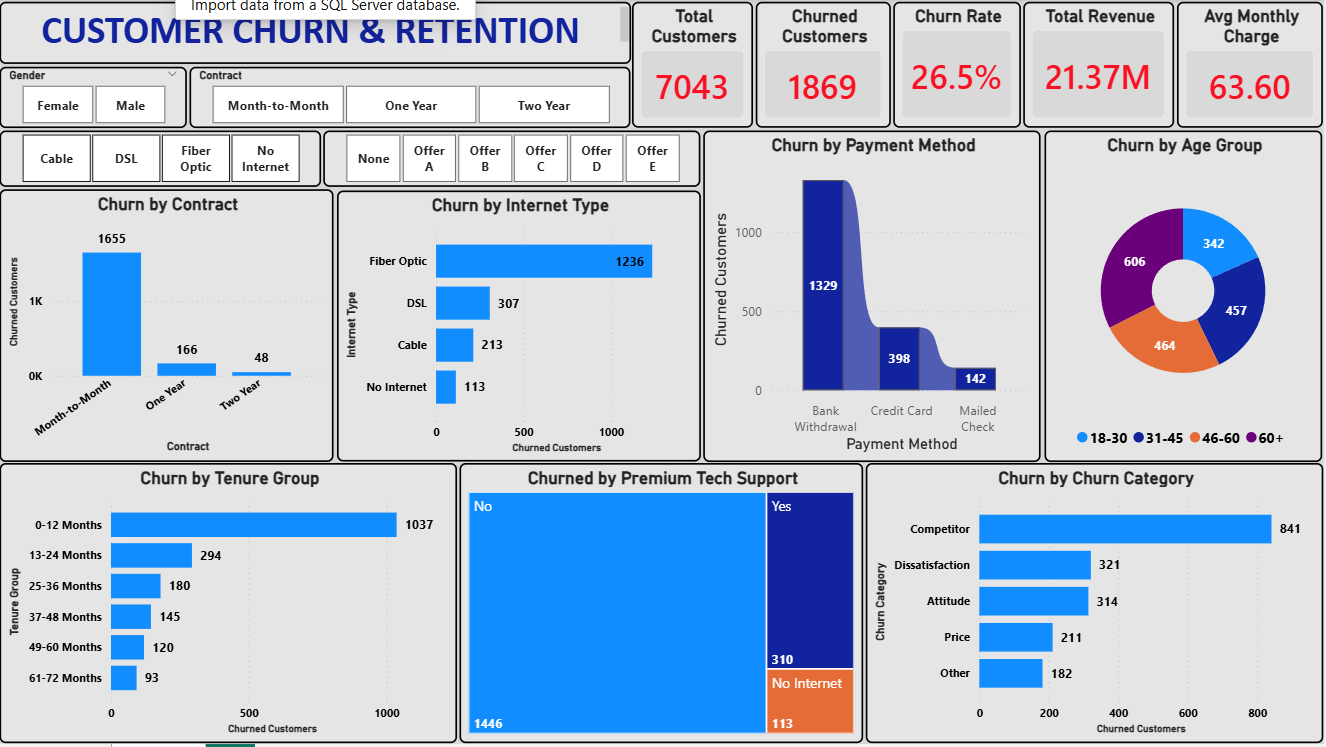

Layout of this report page (visuals, bound fields, positions):
{"tool":"powerbi","page":{"name":"Page 1","canvas":[1280,720],"ordinal":0},"visuals":[{"type":"textbox","box":[2.4,3.6,609.3,60.3],"z":0},{"type":"slicer","fields":{"Values":["telecom_customer_churn.Gender"]},"box":[2.4,66.4,181,59.1],"z":1000},{"type":"slicer","fields":{"Values":["telecom_customer_churn.Contract"]},"box":[185.8,66.4,425.9,59.1],"z":2000},{"type":"slicer","fields":{"Values":["telecom_customer_churn.Internet Type"]},"box":[2.4,127.9,310.1,54.3],"z":3000},{"type":"slicer","fields":{"Values":["telecom_customer_churn.Offer"]},"box":[314.9,127.9,364.3,54.3],"z":4000},{"type":"clusteredColumnChart","title":"Churn by Contract","fields":{"Category":["telecom_customer_churn.Contract"],"Y":["telecom_customer_churn.Churned Customers"]},"box":[2.4,184.6,322.1,263],"z":5000},{"type":"barChart","title":"Churn by Tenure Group","fields":{"Category":["telecom_customer_churn.Tenure Group"],"Y":["telecom_customer_churn.Churned Customers"]},"box":[2.7,448.7,441.9,270.3],"z":6000},{"type":"clusteredBarChart","title":"Churn by Internet Type","fields":{"Category":["telecom_customer_churn.Internet Type"],"Y":["telecom_customer_churn.Churned Customers"]},"box":[328.2,185.8,351.1,261.8],"z":7000},{"type":"ribbonChart","title":"Churn by Payment Method","fields":{"Category":["telecom_customer_churn.Payment Method"],"Y":["telecom_customer_churn.Churned Customers"]},"box":[681.6,127.9,325.7,319.7],"z":8000},{"type":"treemap","title":"Churned by Premium Tech Support","fields":{"Group":["telecom_customer_churn.Premium Tech Support"],"Values":["telecom_customer_churn.Churned Customers"]},"box":[446.4,448.8,389.7,270.2],"z":9000},{"type":"clusteredBarChart","title":"Churn by Churn Category","fields":{"Category":["telecom_customer_churn.Churn Category"],"Y":["telecom_customer_churn.Churned Customers"]},"box":[838.5,448.8,441.6,270.2],"z":10000},{"type":"donutChart","title":"Churn by Age Group","fields":{"Category":["telecom_customer_churn.Age Group"],"Y":["telecom_customer_churn.Churned Customers"]},"box":[1011,127.9,267.8,319.7],"z":11000},{"type":"cardVisual","title":"Total Customers","fields":{"Data":["telecom_customer_churn.Total Customers"]},"box":[612.9,3.6,117,121.9],"z":12000},{"type":"cardVisual","title":"Churned Customers","fields":{"Data":["telecom_customer_churn.Churned Customers"]},"box":[732.3,3.6,130.3,121.9],"z":13000},{"type":"cardVisual","title":"Churn Rate","fields":{"Data":["telecom_customer_churn.Churn Rate %"]},"box":[865,3.6,123.1,121.9],"z":14000},{"type":"cardVisual","title":"Total Revenue","fields":{"Data":["telecom_customer_churn.Total Revenue1"]},"box":[990.5,3.6,146,121.9],"z":15000},{"type":"cardVisual","title":"Avg Monthly Charge","fields":{"Data":["telecom_customer_churn.Avg Monthly Charge"]},"box":[1138.9,3.6,141.2,121.9],"z":16000}]}

Visuals, with their boxes in screenshot pixels (x1, y1, x2, y2), scaled from the page's 1280x720 canvas onto the 1326x747 screenshot:
textbox: bbox=(2, 4, 634, 66)
slicer - telecom_customer_churn.Gender: bbox=(2, 69, 190, 130)
slicer - telecom_customer_churn.Contract: bbox=(192, 69, 634, 130)
slicer - telecom_customer_churn.Internet Type: bbox=(2, 133, 324, 189)
slicer - telecom_customer_churn.Offer: bbox=(326, 133, 704, 189)
"Churn by Contract" clusteredColumnChart: bbox=(2, 192, 336, 464)
"Churn by Tenure Group" barChart: bbox=(3, 466, 461, 746)
"Churn by Internet Type" clusteredBarChart: bbox=(340, 193, 704, 464)
"Churn by Payment Method" ribbonChart: bbox=(706, 133, 1043, 464)
"Churned by Premium Tech Support" treemap: bbox=(462, 466, 866, 746)
"Churn by Churn Category" clusteredBarChart: bbox=(869, 466, 1325, 746)
"Churn by Age Group" donutChart: bbox=(1047, 133, 1325, 464)
"Total Customers" cardVisual: bbox=(635, 4, 756, 130)
"Churned Customers" cardVisual: bbox=(759, 4, 894, 130)
"Churn Rate" cardVisual: bbox=(896, 4, 1024, 130)
"Total Revenue" cardVisual: bbox=(1026, 4, 1177, 130)
"Avg Monthly Charge" cardVisual: bbox=(1180, 4, 1325, 130)
